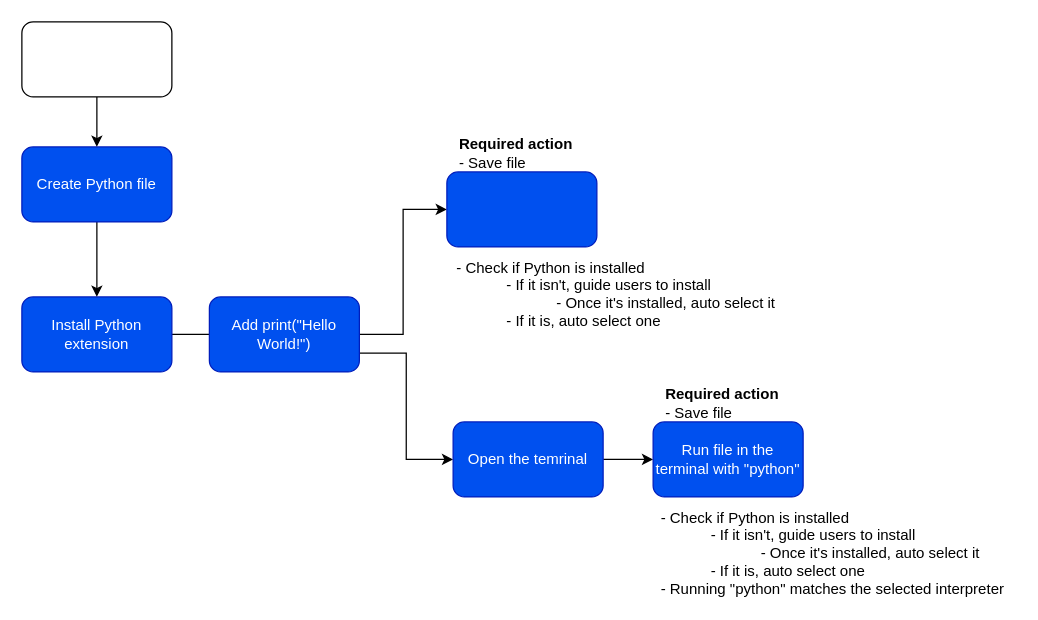
This 1038x620 diagram has some shape labels left out. The box of each missing label's shape, as (x1, y1, x2, y2) in pixels:
Click on the play button: (446, 171, 597, 247)
Open VS Code: (21, 21, 172, 97)
